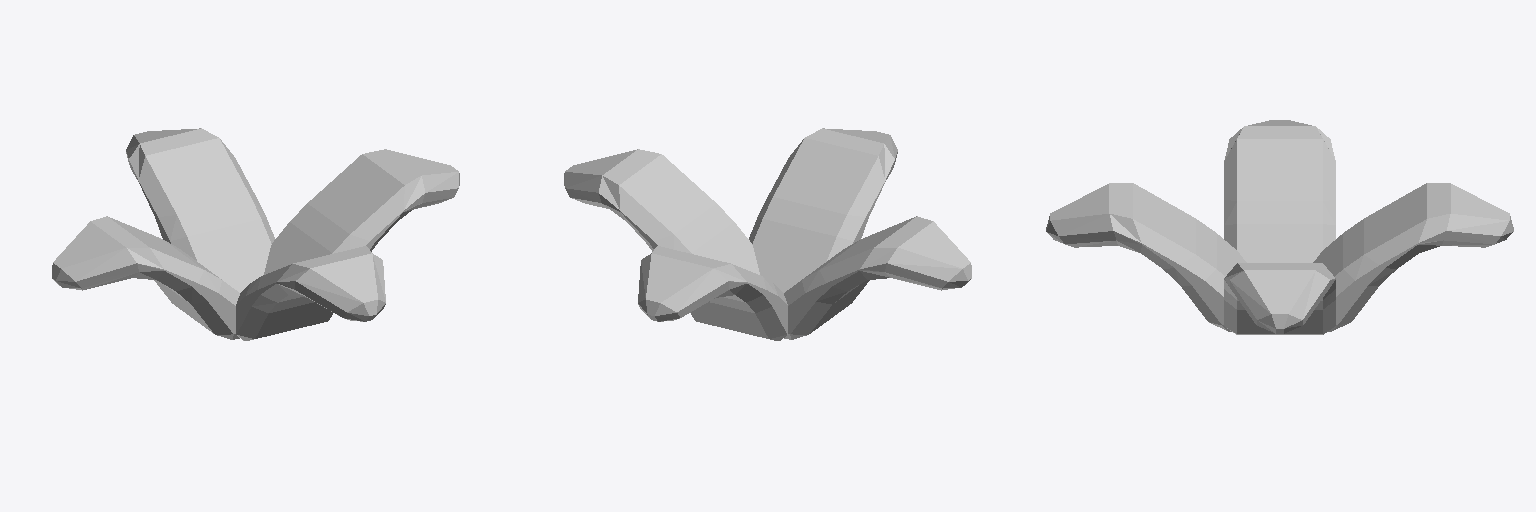
File: Plant_2.obj
3 views of the same model, side by side, from view 1: azimuth 30°, elevation 25°; view 2: azimuth 150°, elevation 25°; view 3: azimuth 270°, elevation 25° (orthographic).
Visible parts, largest first — view 1: Plant_2_Cube.518; view 2: Plant_2_Cube.518; view 3: Plant_2_Cube.518.
Part boxes in pixels (x1,y1,x2,y2): Plant_2_Cube.518: (52, 128, 459, 340); Plant_2_Cube.518: (564, 128, 971, 340); Plant_2_Cube.518: (1046, 120, 1513, 334).
Size of the model in its own units: 2.66 by 0.7235 by 2.66.